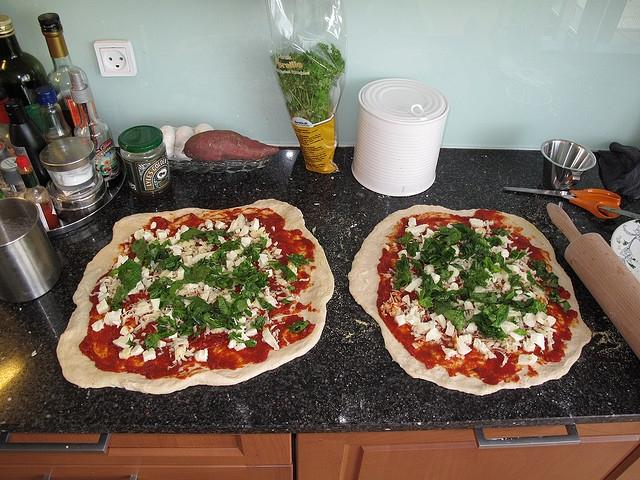potato: (182, 130, 278, 162)
